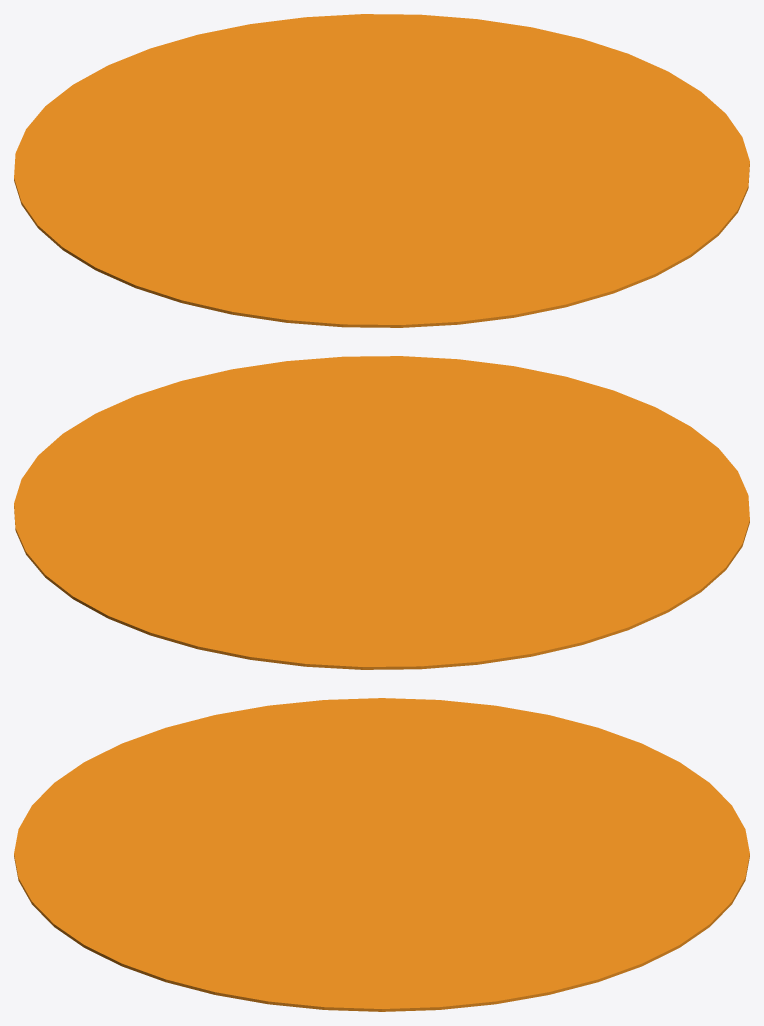
File: PlazaEmblem_Emblem.fbx
3 renders of one model, top to bottom at view 1: azimuth 30°, elevation 25°; view 2: azimuth 150°, elevation 25°; view 3: azimuth 270°, elevation 25°, orthographic.
Parts seen in each view (by area): view 1: EmblemDisc.001; view 2: EmblemDisc.001; view 3: EmblemDisc.001.
Boxes of the visible parts, x1,y1,x2,y2 form: EmblemDisc.001: (14, 14, 749, 327); EmblemDisc.001: (14, 356, 749, 669); EmblemDisc.001: (14, 698, 749, 1011).
Bounding box in the file's own units: 1400 × 6 × 1400.
